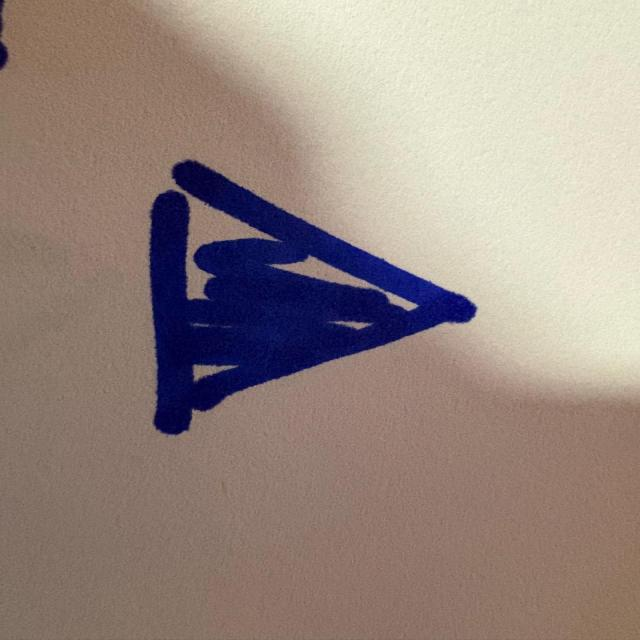Triangle: (144, 155, 480, 437)
